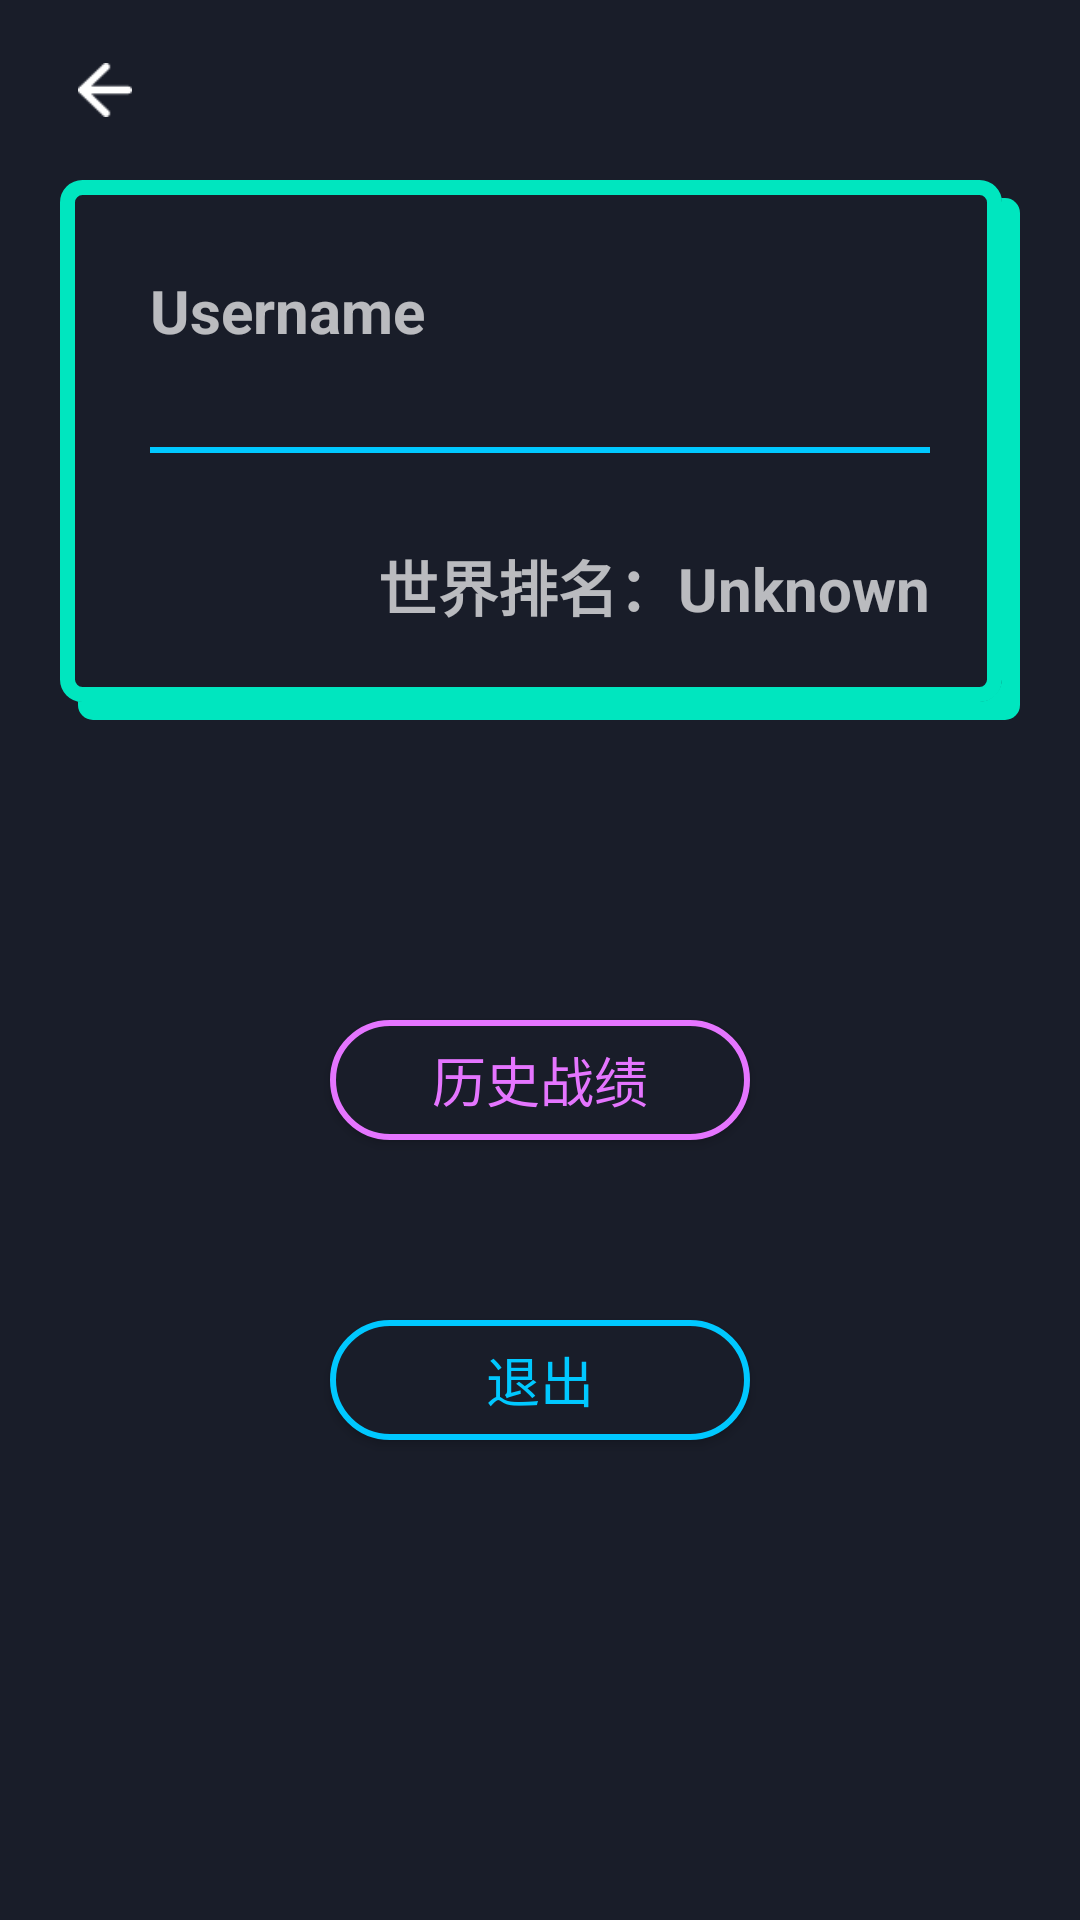

Locate icon controls on the screen. Image size 1080×1920, boxes as [x1,y1,x2,y2].
back: [78,63,132,117]
